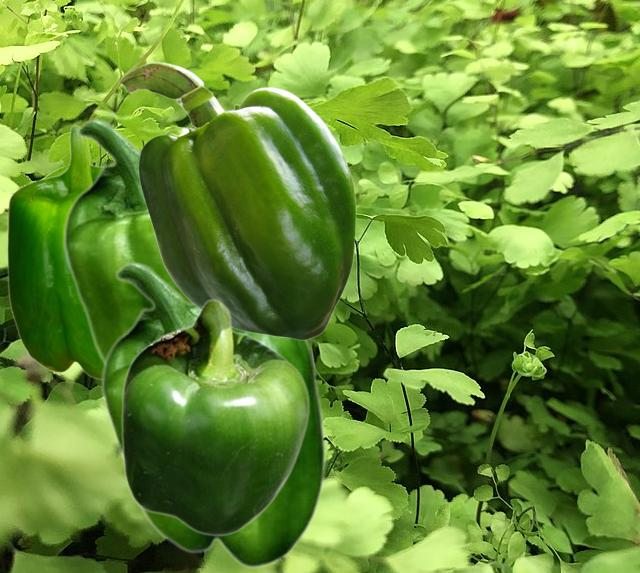bell_pepper: (100, 261, 326, 568), (118, 61, 355, 339), (120, 298, 309, 536), (62, 118, 182, 366), (6, 124, 101, 379)
